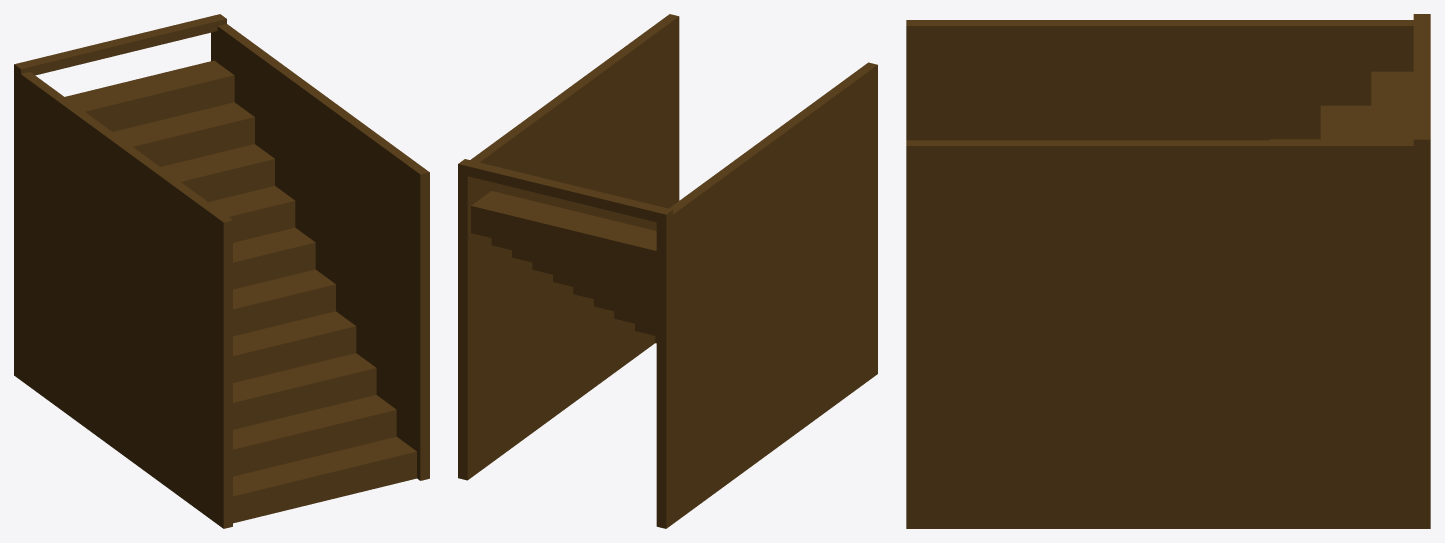
The model's file is Escalera.fbx.
3 renders of one model, left to right at view 1: azimuth 30°, elevation 25°; view 2: azimuth 150°, elevation 25°; view 3: azimuth 270°, elevation 25°, orthographic. The views are drawn at different scales.
Parts seen in each view (by area): view 1: Staircase; view 2: Staircase; view 3: Staircase.
Part boxes in pixels (bbox=[...]): Staircase: bbox=[14, 14, 429, 528]; Staircase: bbox=[458, 14, 877, 528]; Staircase: bbox=[906, 14, 1430, 528].
Size of the model in its own units: 1.76 by 2.54 by 3.1.
